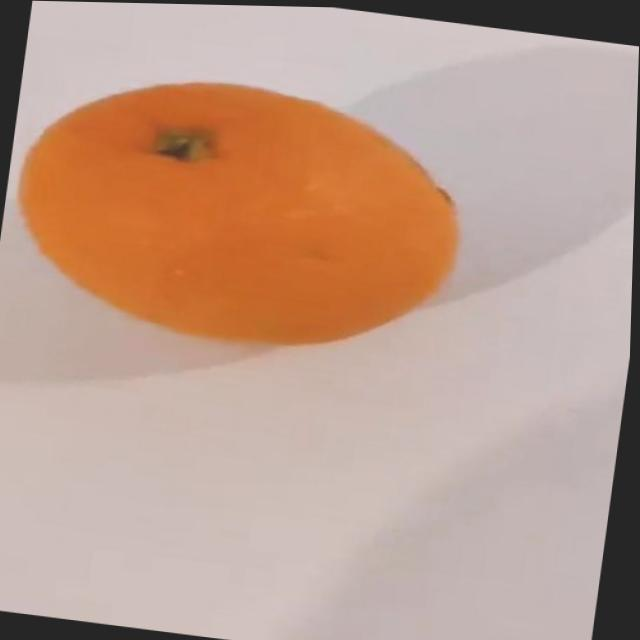Orange: (1, 57, 479, 371)
